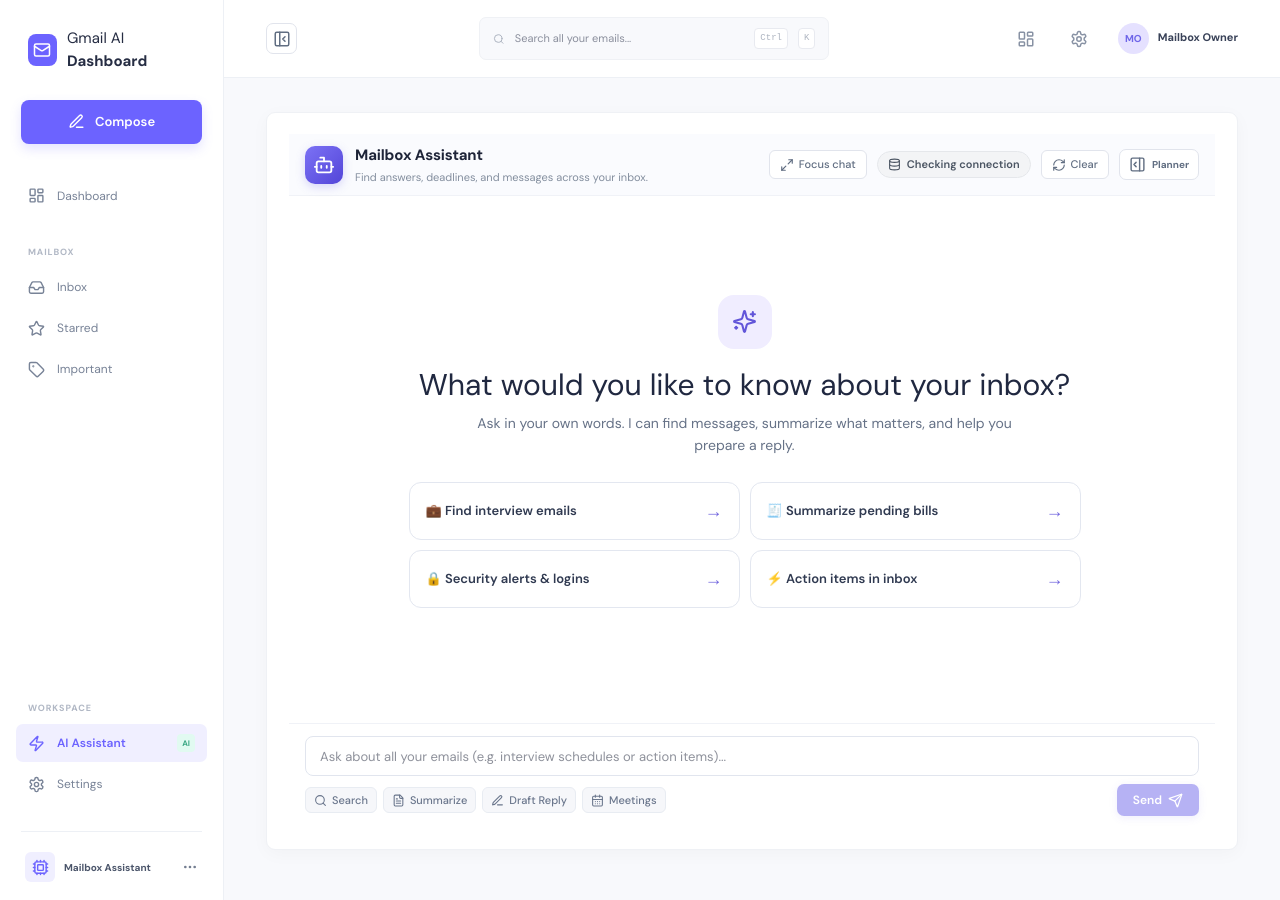
Test: lets the user collapse both side panels to expand the chat area
What coordinates should you click on to do the following:
click the button named "Open key points panel"
I would click on:
 (1159, 164)
Its box is [1119,149,1199,180].
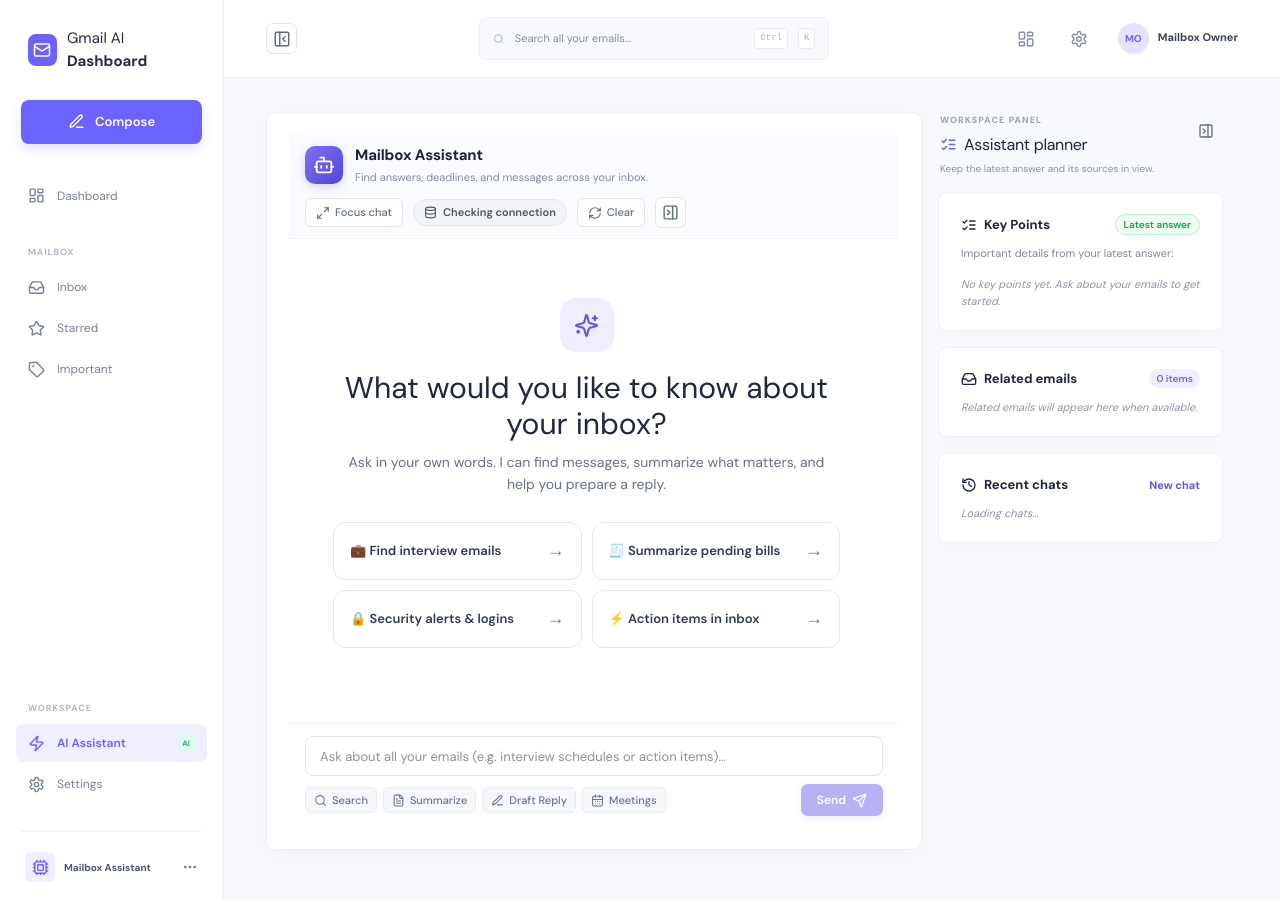
What coordinates should you click on to do the following:
click the button named "Close navigation and composer panel"
I would click on:
 (282, 38)
Its box is [266,23,297,54].
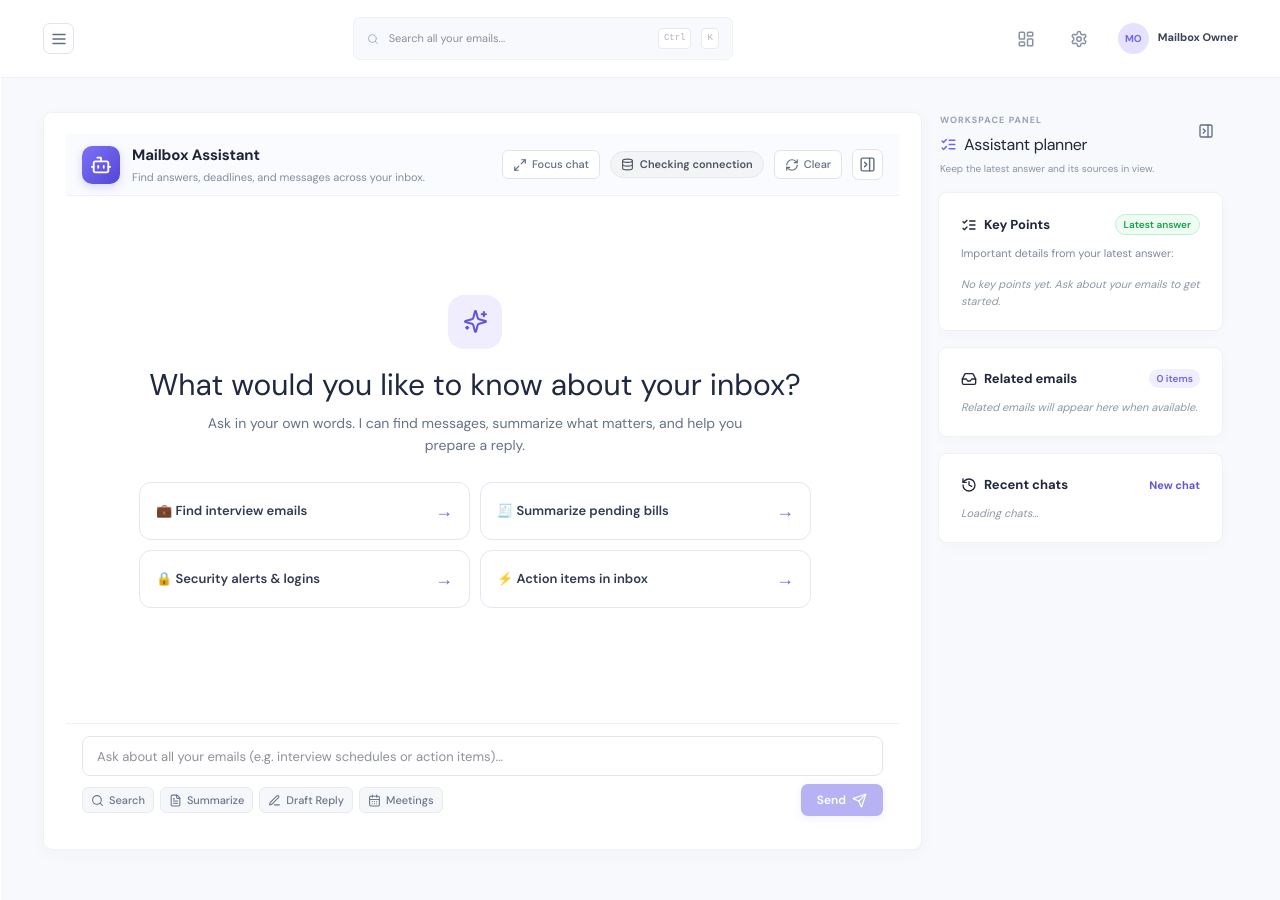
What coordinates should you click on to do the following:
click the button named "Close key points panel"
I would click on:
 (868, 164)
Its box is [852,149,883,180].
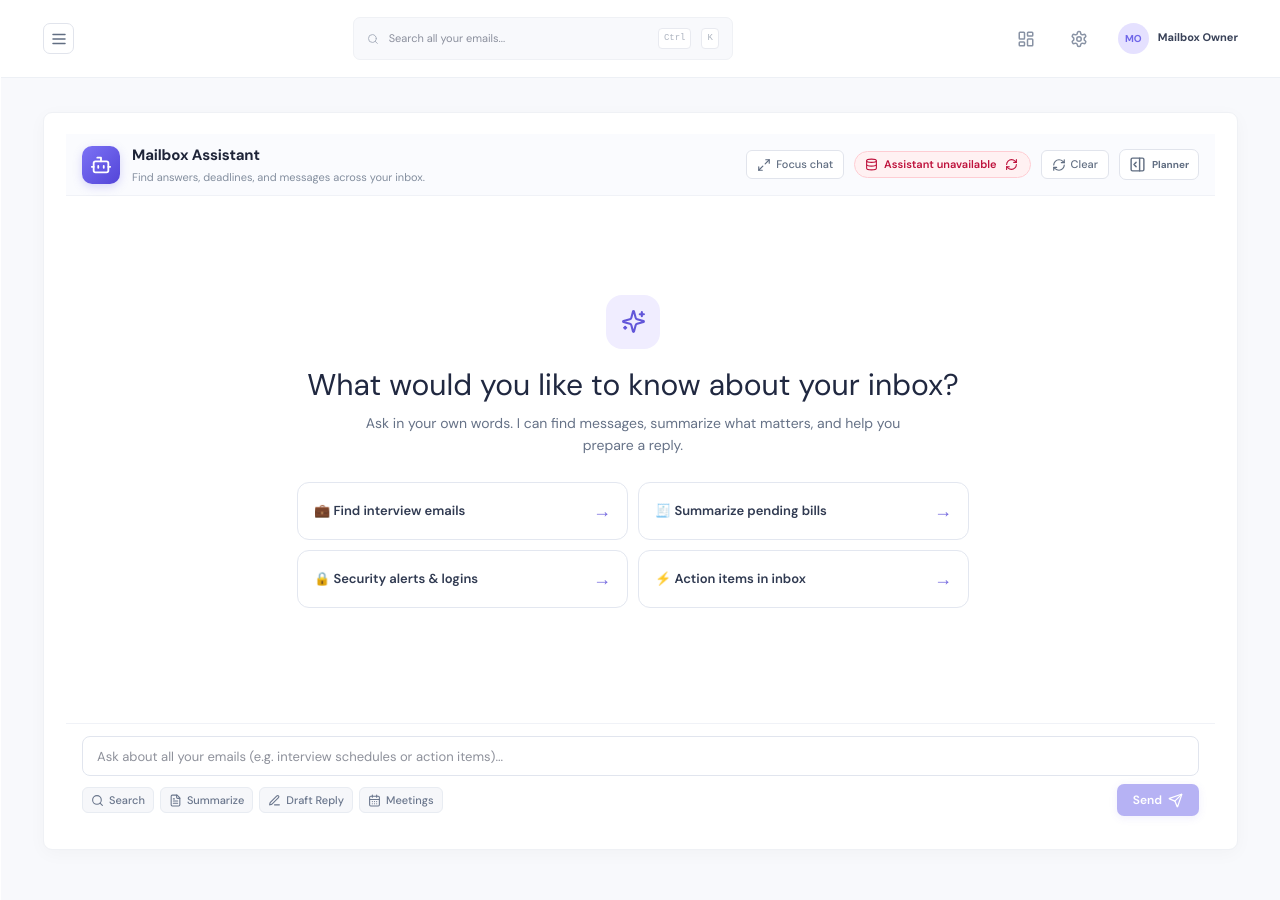
Expected: the button named "Open navigation and composer panel" is shown, [43,23,74,54]
Expected: the heading "Key Points" is gone
Expected: the button named "Open key points panel" is shown, [1119,149,1199,180]
